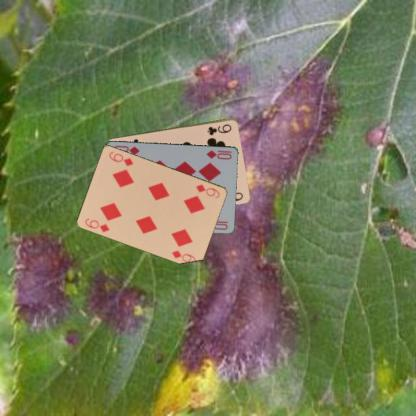10d: (204, 147, 233, 161)
6d: (83, 216, 111, 234), (194, 181, 221, 199)
9c: (204, 122, 233, 136)
